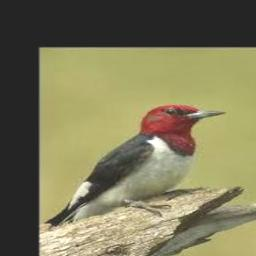Woodpecker: (45, 104, 227, 227)
